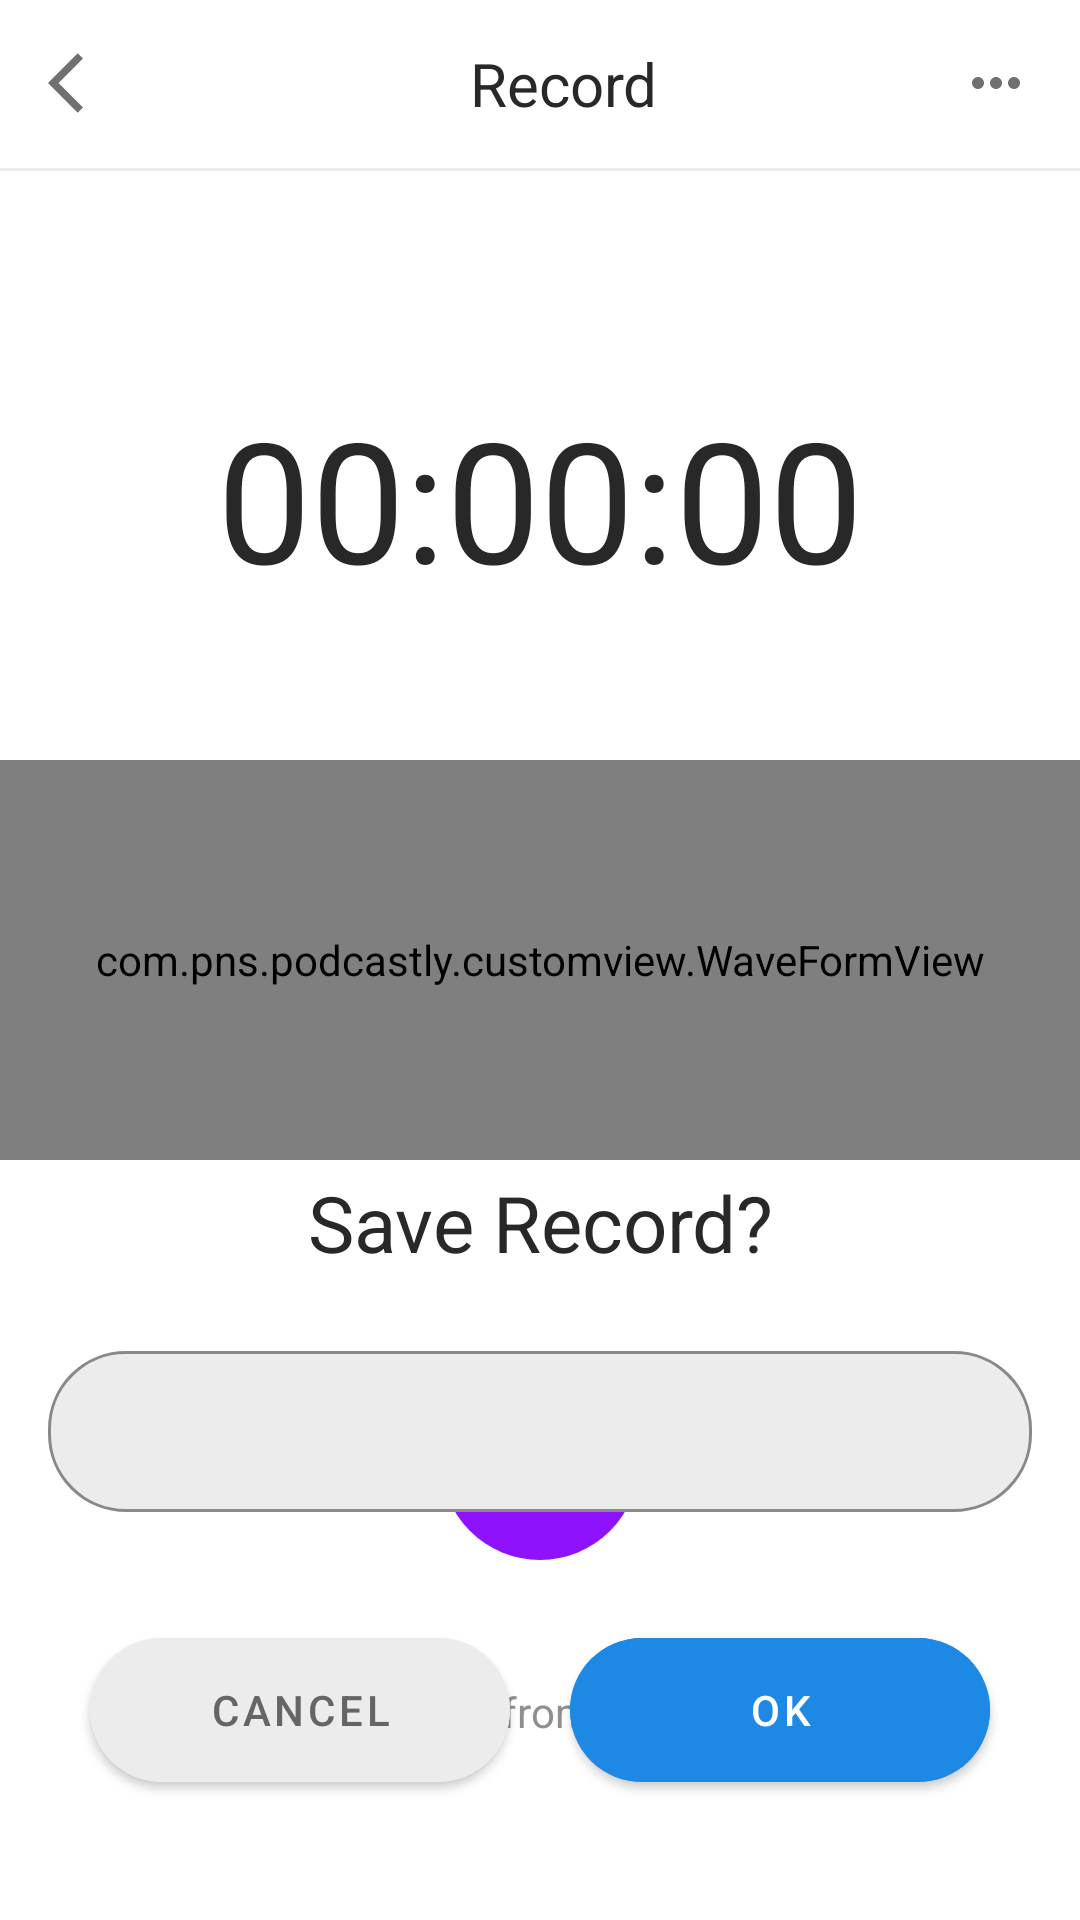

Icons on this 1080px x 1920px Android screen, each with its box as box(x1, y1, x2, y2):
back: box(48, 53, 83, 113)
more: box(972, 77, 1020, 89)
